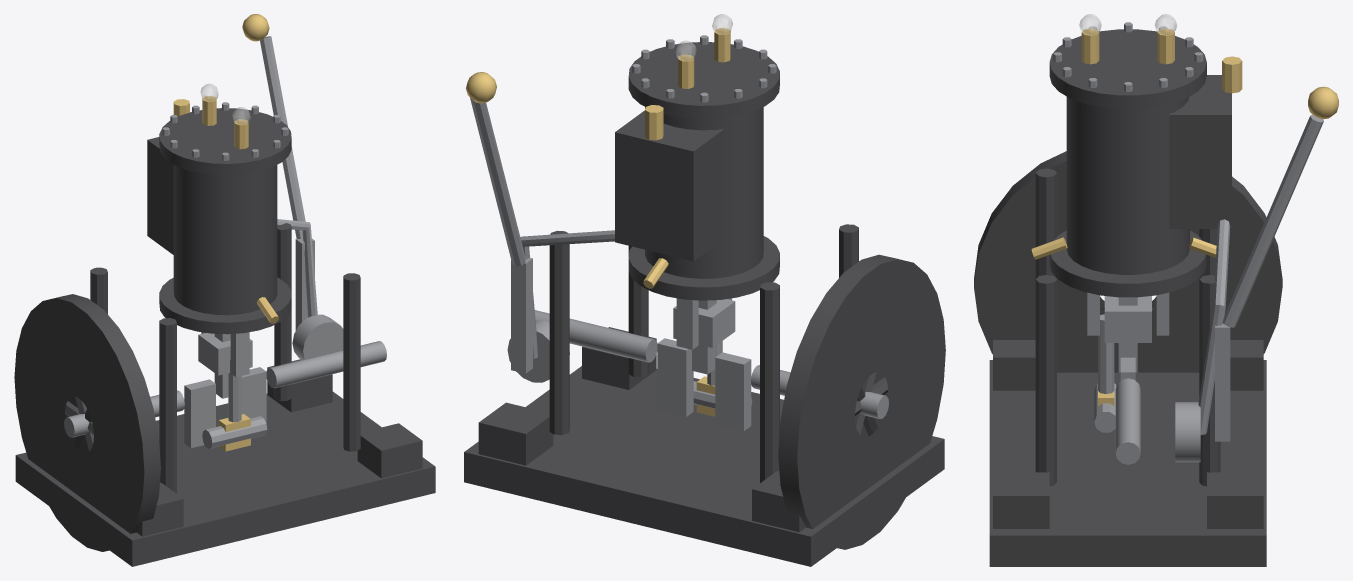
The model's file is Engine.glb.
The picture shows the model from 3 angles, left to right: view 1: azimuth 30°, elevation 25°; view 2: azimuth 150°, elevation 25°; view 3: azimuth 270°, elevation 25°; orthographic projection. The views are drawn at different scales.
Parts seen in each view (by area): view 1: Engine; view 2: Engine; view 3: Engine.
Part boxes in pixels (x1=…): Engine: x1=14, y1=14, x2=435, y2=566; Engine: x1=464, y1=14, x2=945, y2=566; Engine: x1=974, y1=14, x2=1338, y2=566.
Bounding box in the file's own units: 0.68 × 0.8532 × 0.5797.
